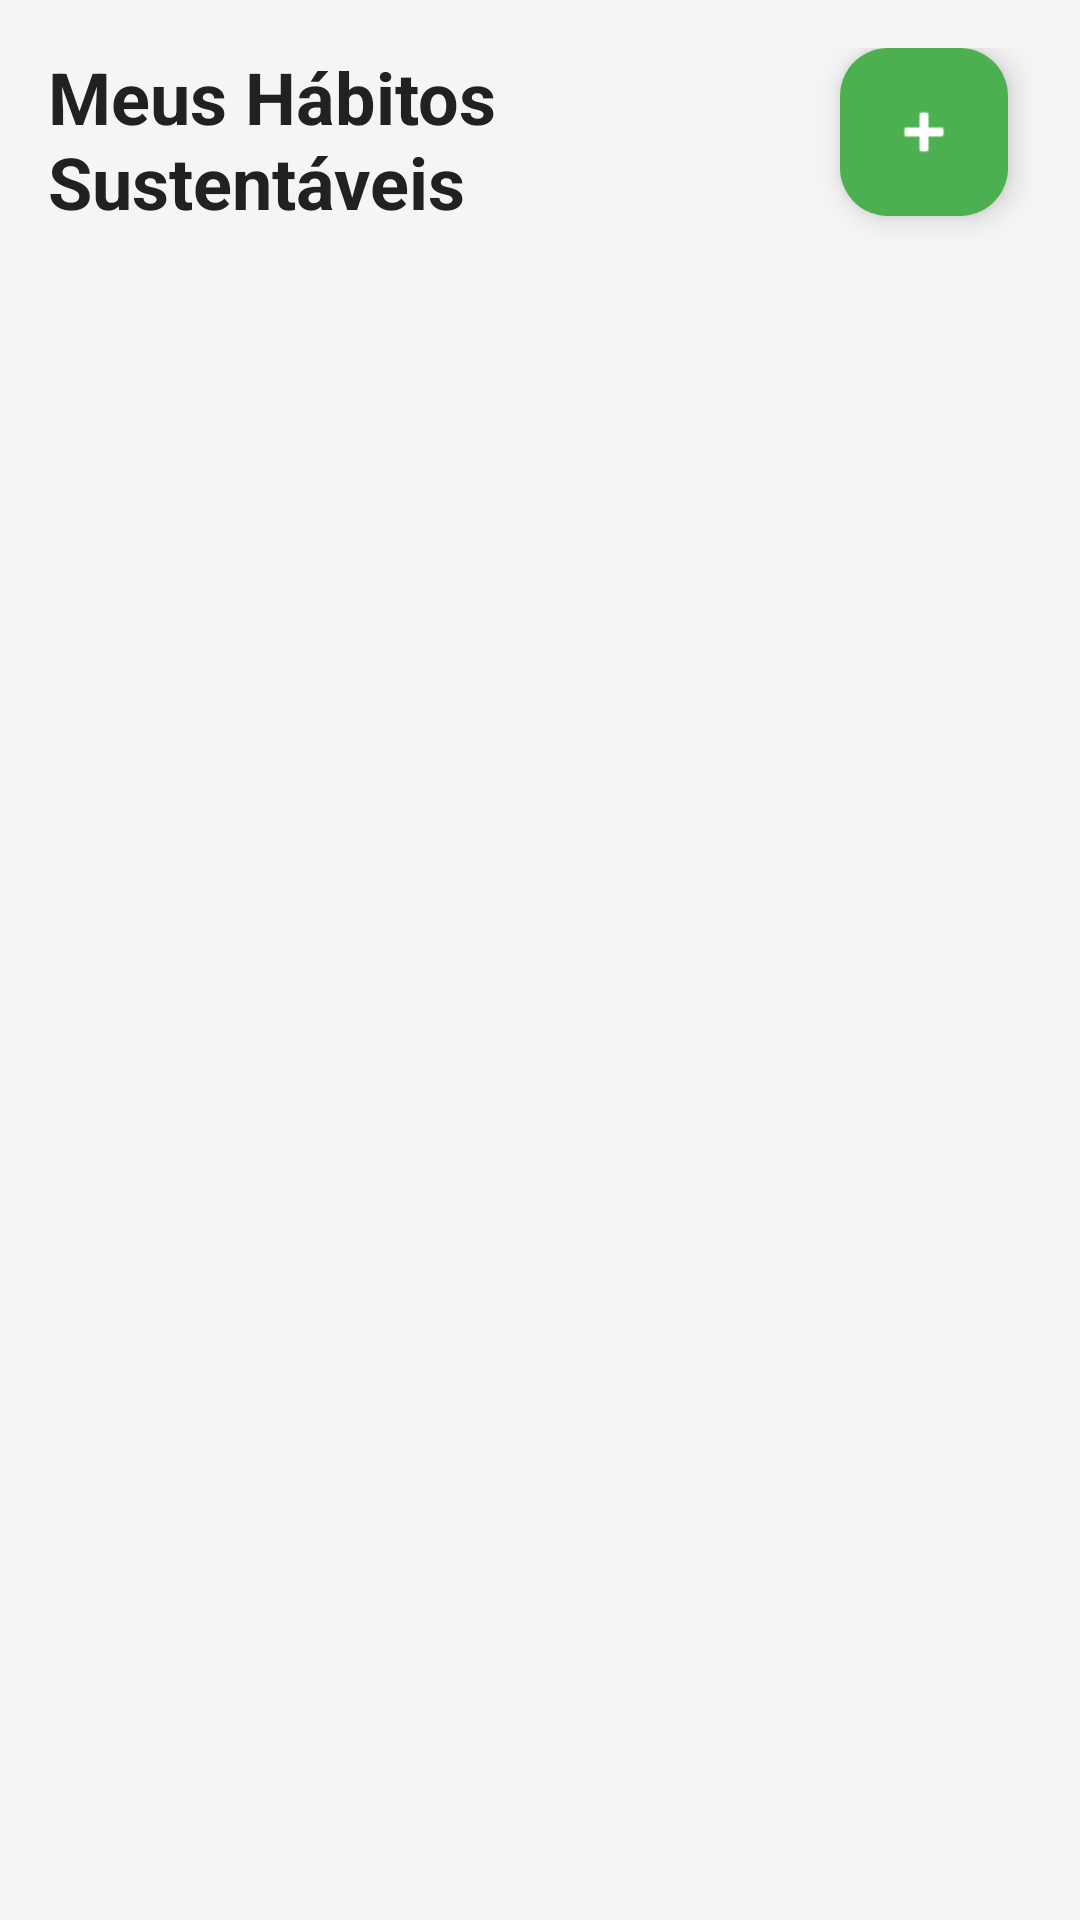

Locate icon controls on the screen. Image size 1080*1920, boxes as (x1, y1, x2, y2).
Botão para adicionar novo hábito: (840, 48, 1008, 216)
